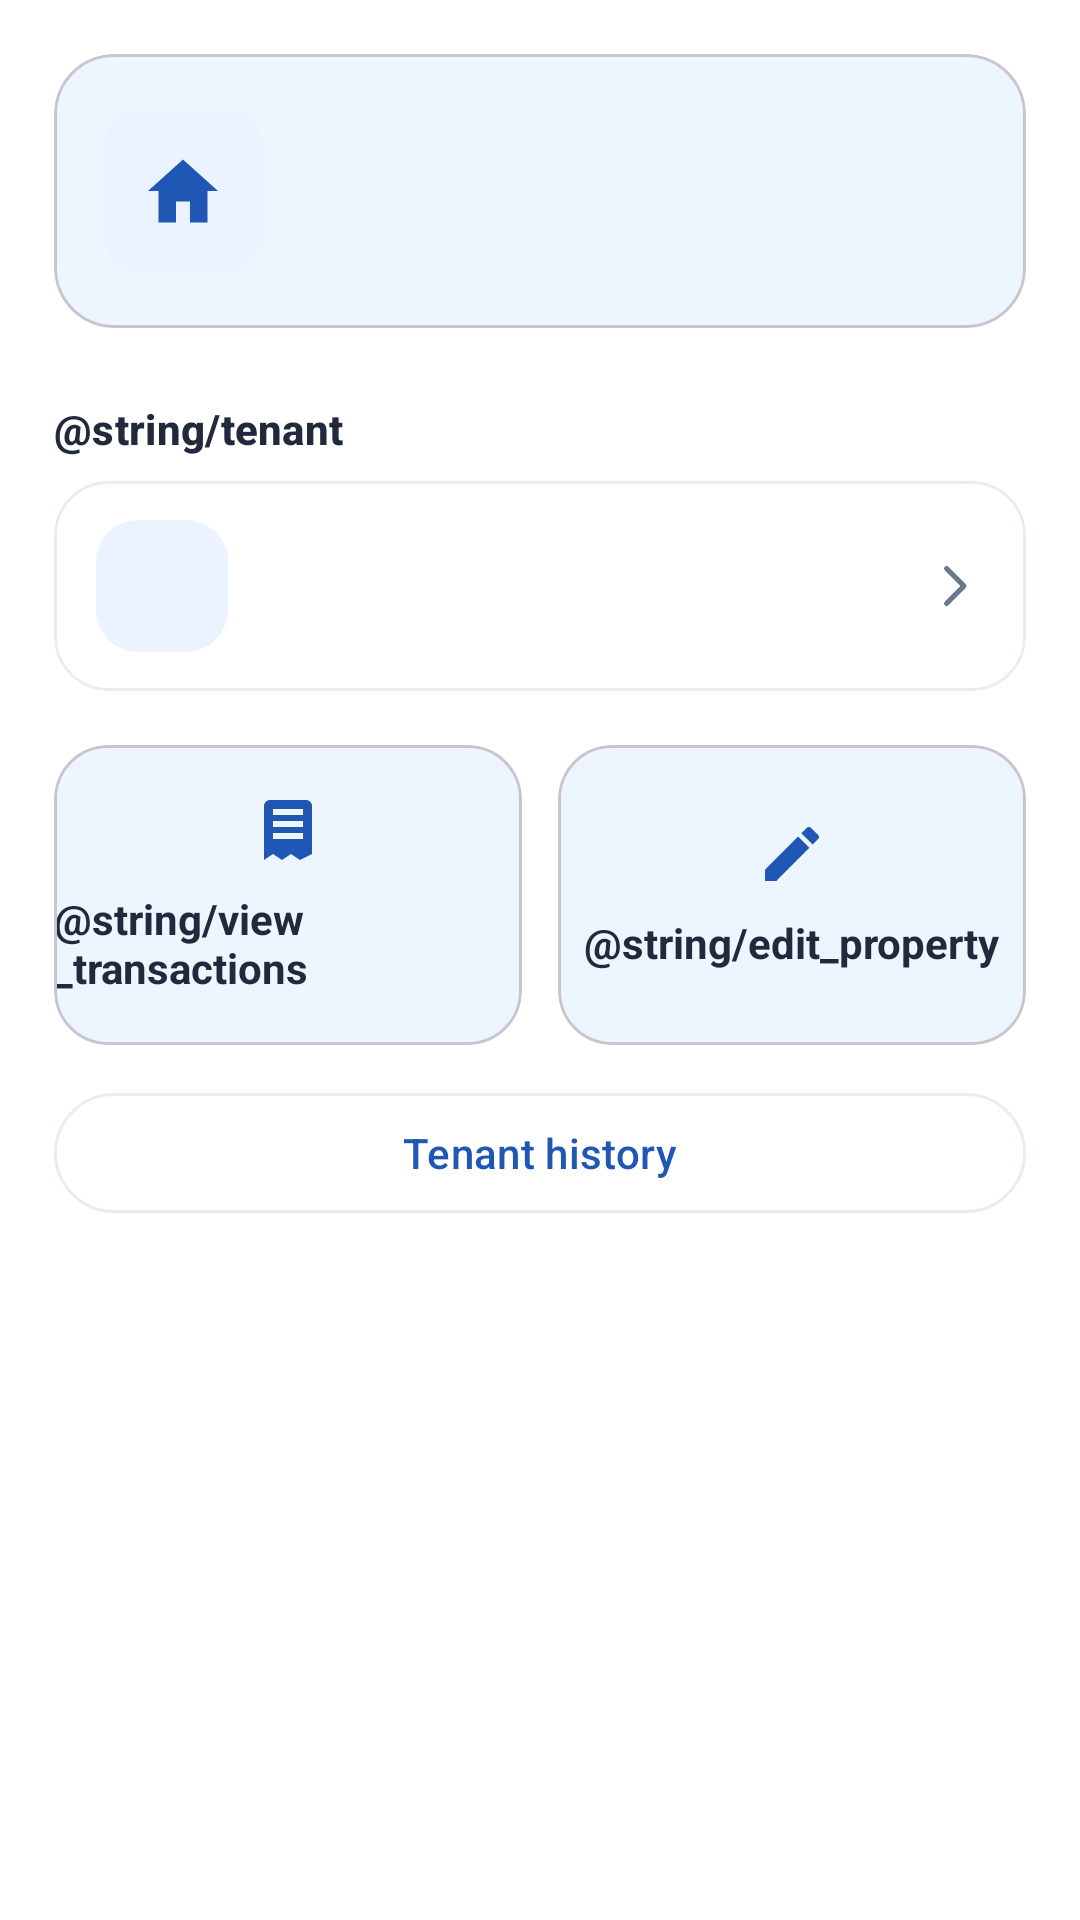

Where icons sit on this 1080 × 1920 app screen, as (x1, y1, x2, y2):
chevron right: (944, 566, 967, 606)
home: (148, 159, 218, 223)
receipt: (264, 800, 312, 860)
